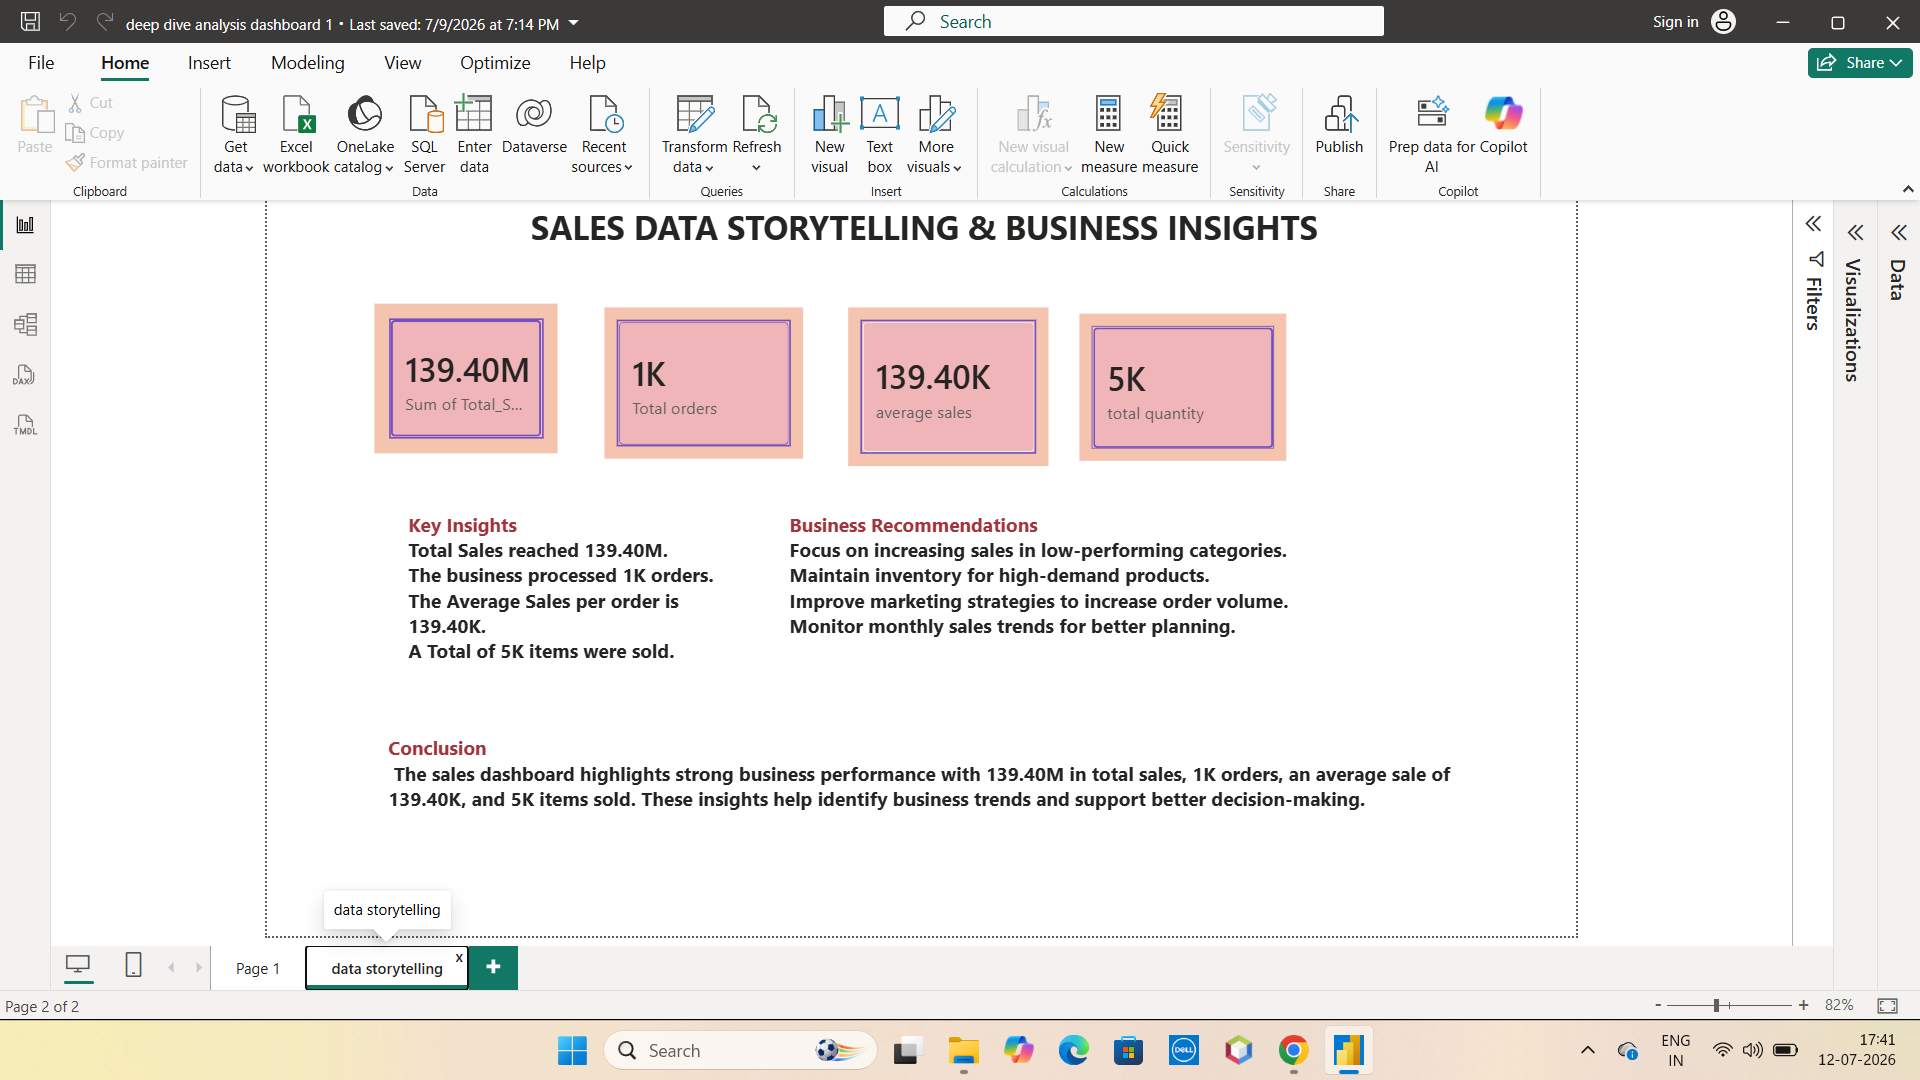

The dashboard page shown, as its layout file describes it:
{"tool":"powerbi","page":{"name":"data storytelling","canvas":[1280,720],"ordinal":1},"visuals":[{"type":"textbox","box":[253.1,0,796.1,61.1],"z":0},{"type":"cardVisual","fields":{"Data":["Sales_Dataset.average sales"]},"box":[563.7,100.3,206.7,165.1],"z":1},{"type":"cardVisual","fields":{"Data":["Sum(Sales_Dataset.Total_Sales)"]},"box":[100.3,96.6,189.5,156.5],"z":2},{"type":"cardVisual","fields":{"Data":["Sales_Dataset.Total orders"]},"box":[325.3,100.3,204.2,159],"z":3},{"type":"cardVisual","fields":{"Data":["Sales_Dataset.total quantity"]},"box":[789.9,106.4,212.8,154.1],"z":4},{"type":"textbox","box":[133.3,299.6,316.7,192],"z":5},{"type":"textbox","box":[506.3,299.6,720.2,155.3],"z":6},{"type":"textbox","box":[113.7,518.5,1060.2,118.6],"z":7}]}

Visuals, with their boxes on the page's 1280x720 design canvas (x1, y1, x2, y2). These are canvas units, not pixel positions in the 1920x1080 screenshot, which may show the page scaled, cropped or inside an application window:
textbox: (253, 0, 1049, 61)
cardVisual - Sales_Dataset.average sales: (564, 100, 770, 265)
cardVisual - Sum(Sales_Dataset.Total_Sales): (100, 97, 290, 253)
cardVisual - Sales_Dataset.Total orders: (325, 100, 530, 259)
cardVisual - Sales_Dataset.total quantity: (790, 106, 1003, 260)
textbox: (133, 300, 450, 492)
textbox: (506, 300, 1226, 455)
textbox: (114, 518, 1174, 637)
